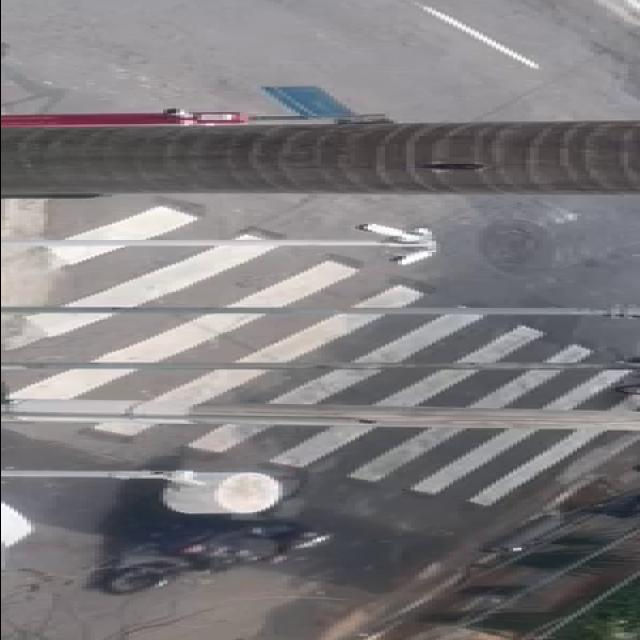motorbike: (119, 462, 328, 595)
